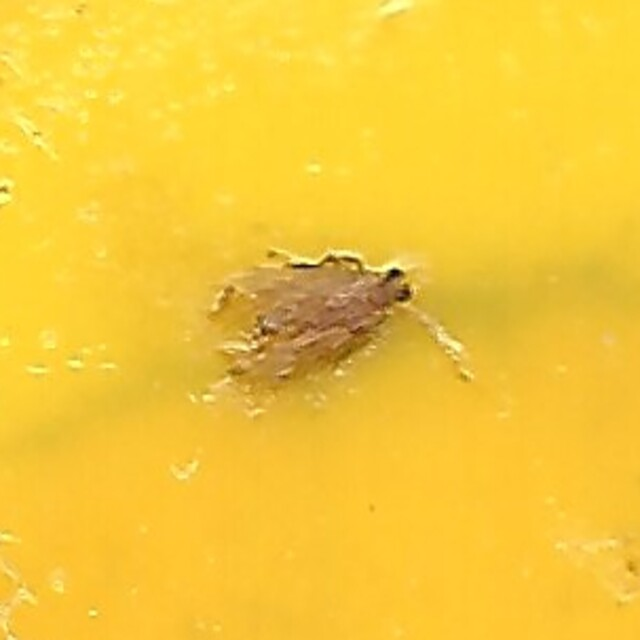Trichoptera: (211, 245, 429, 395)
